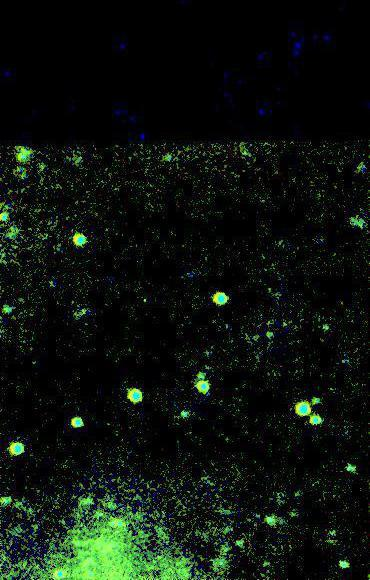star: (4, 143, 34, 173)
